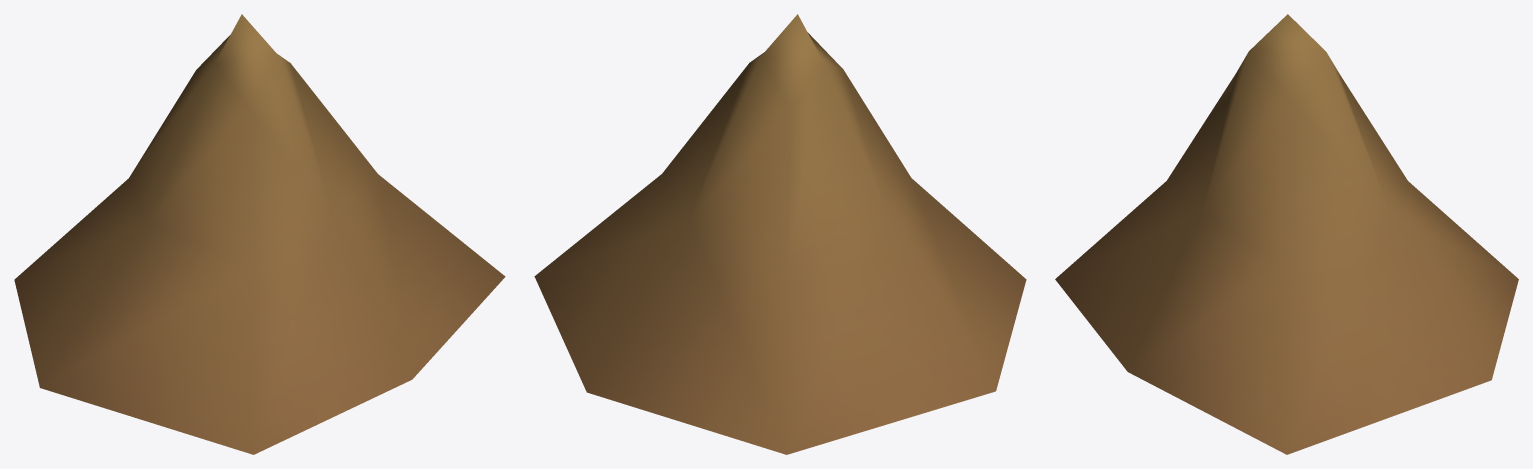
Rendered from HillSand001.glb.
The picture shows the model from 3 angles, left to right: view 1: azimuth 30°, elevation 25°; view 2: azimuth 150°, elevation 25°; view 3: azimuth 270°, elevation 25°; orthographic projection. The views are drawn at different scales.
Visible parts, largest first — view 1: HillSand001; view 2: HillSand001; view 3: HillSand001.
Boxes of the visible parts, x1,y1,x2,y2 form: HillSand001: (14,14,505,454); HillSand001: (534,14,1026,454); HillSand001: (1055,14,1518,454).
Size of the model in its own units: 724 by 488 by 648.
Materials: 1 (1 with a texture image).
